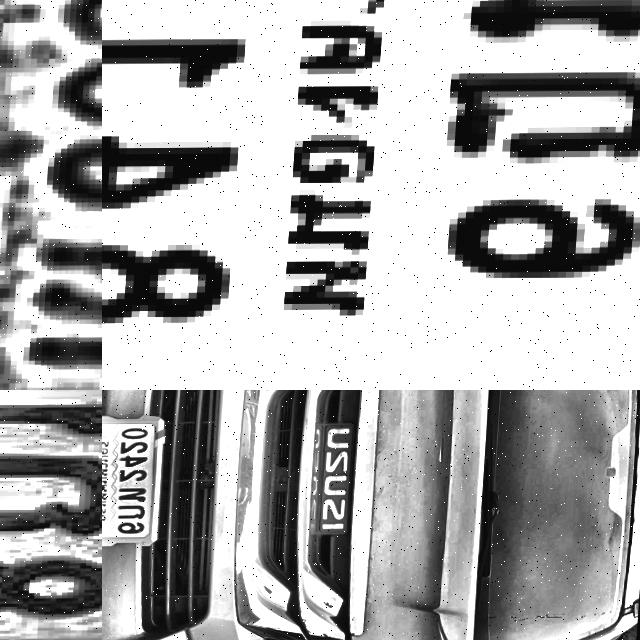license-plate: (102, 0, 640, 390), (0, 0, 102, 390), (0, 390, 102, 640), (102, 412, 174, 548)
